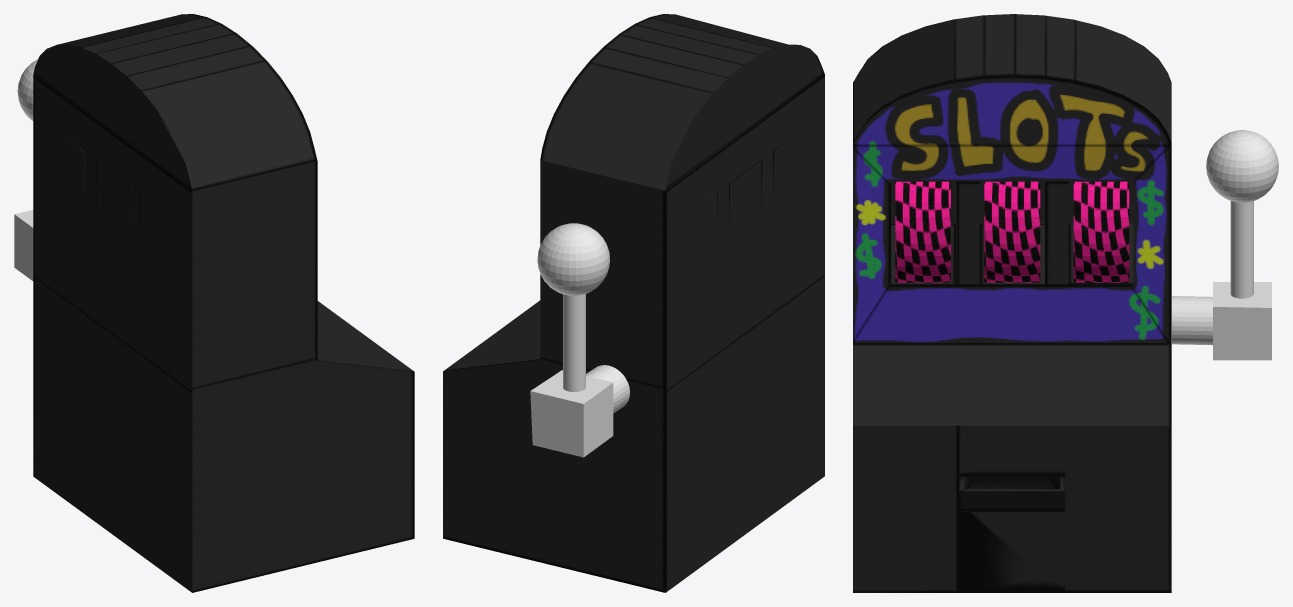
The model's file is slotmachine2.glb.
3 views of the same model, side by side, from view 1: azimuth 30°, elevation 25°; view 2: azimuth 150°, elevation 25°; view 3: azimuth 270°, elevation 25° (orthographic).
Visible parts, largest first — view 1: SlotMachine, Handle; view 2: SlotMachine, Handle; view 3: SlotMachine, Handle, Wheel2, Wheel3, Wheel1.
Part boxes in pixels (x1=…): SlotMachine: x1=33, y1=14, x2=414, y2=592; Handle: x1=14, y1=59, x2=37, y2=280; SlotMachine: x1=443, y1=14, x2=824, y2=592; Handle: x1=530, y1=223, x2=629, y2=457; SlotMachine: x1=853, y1=14, x2=1171, y2=592; Handle: x1=1172, y1=130, x2=1278, y2=360; Wheel2: x1=984, y1=181, x2=1040, y2=282; Wheel3: x1=1073, y1=181, x2=1129, y2=282; Wheel1: x1=895, y1=181, x2=950, y2=282.
Bounding box in the file's own units: 8.04 × 14.26 × 11.7.
Materials: 4 (4 with a texture image).
